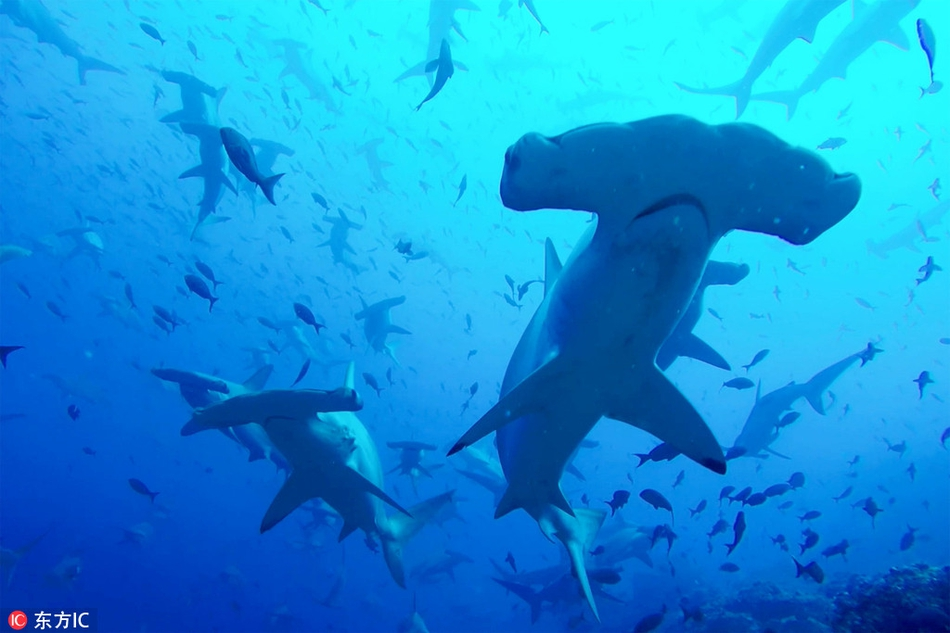shark: (440, 101, 880, 625), (151, 368, 441, 600), (759, 1, 950, 145), (668, 1, 860, 121), (159, 114, 247, 241), (378, 1, 479, 98)
